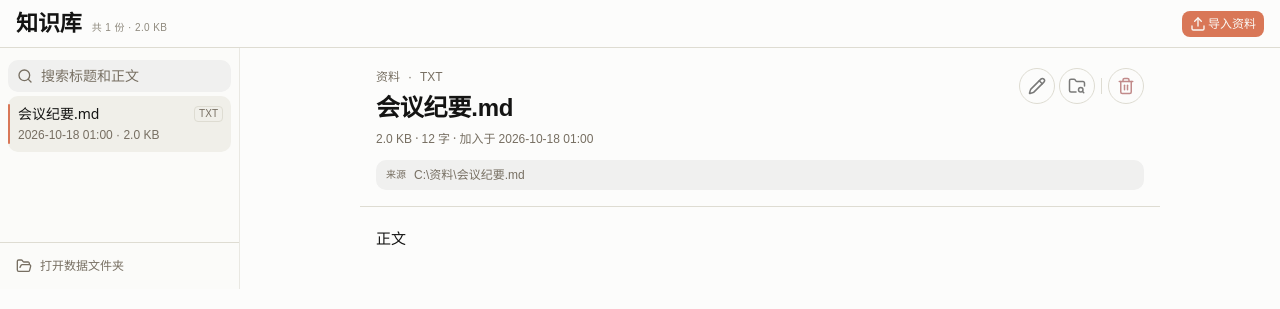
it: 知识库：重命名 / 删除 / 错误 › 重命名：点笔图标 → 输入新标题提交 → 调 rename 并更新标题
expect the heading "会议纪要.md" is shown: met, box x1=376 y1=94 x2=513 y2=121
Click the button with test id "knowledge-rename-button": (1037, 86) x1=1019 y1=68 x2=1055 y2=104
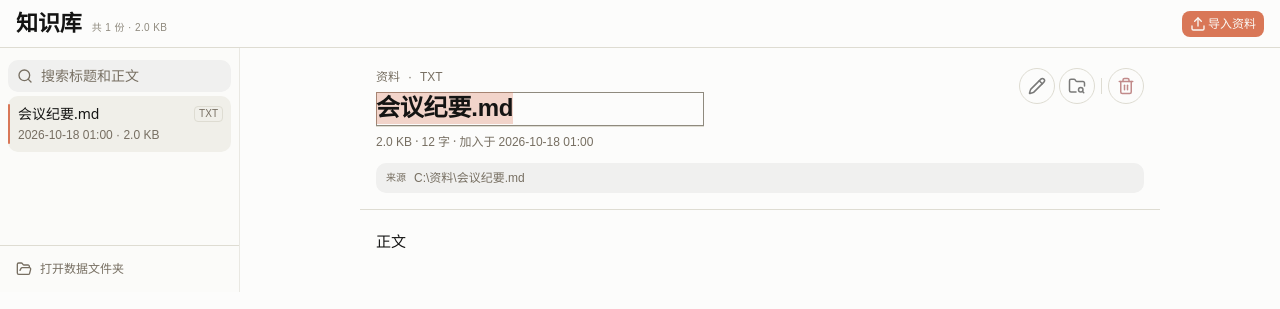
Replace the text in the field with test id "knowledge-rename-input" with "新标题": (540, 110) x1=376 y1=92 x2=704 y2=127
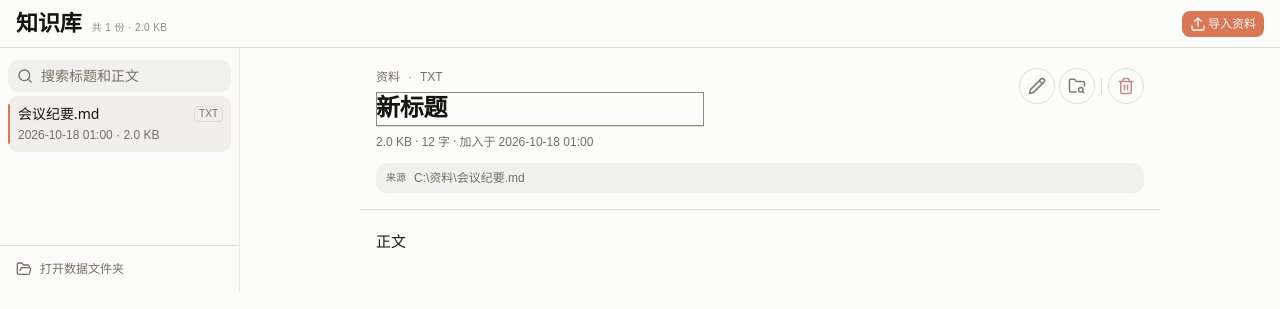
Press Enter in the field with test id "knowledge-rename-input", box x1=376 y1=92 x2=704 y2=127
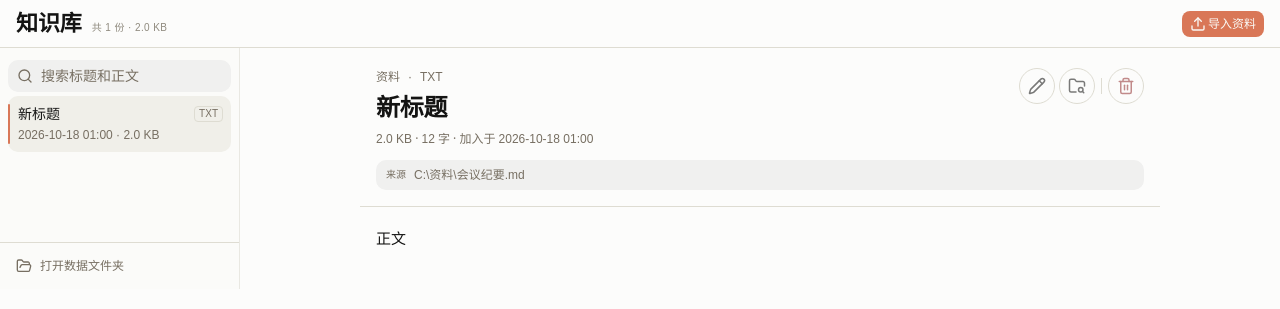
expect the heading with test id "knowledge-detail-title" reads "新标题": met, box x1=376 y1=94 x2=447 y2=121
expect the button with test id "knowledge-item" shows "新标题": met, box x1=8 y1=96 x2=231 y2=152
